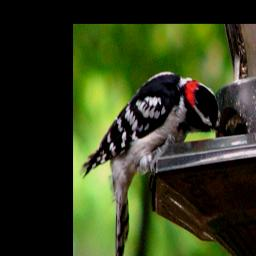Woodpecker: (78, 69, 228, 256)
